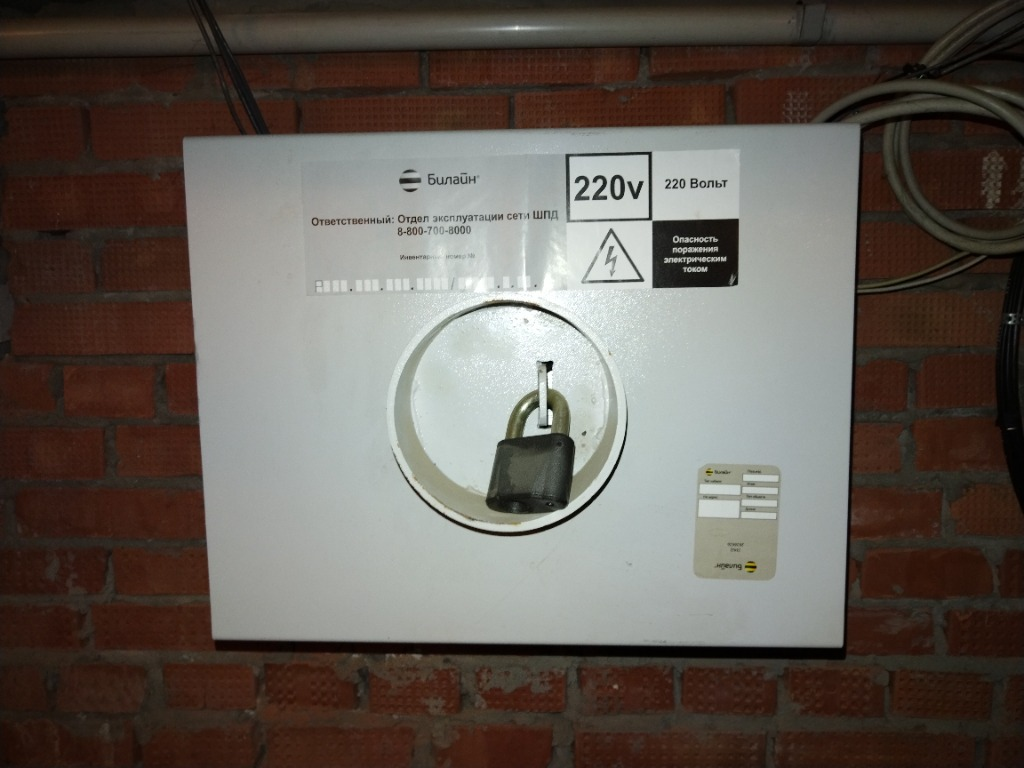shta-3: (176, 121, 869, 653)
